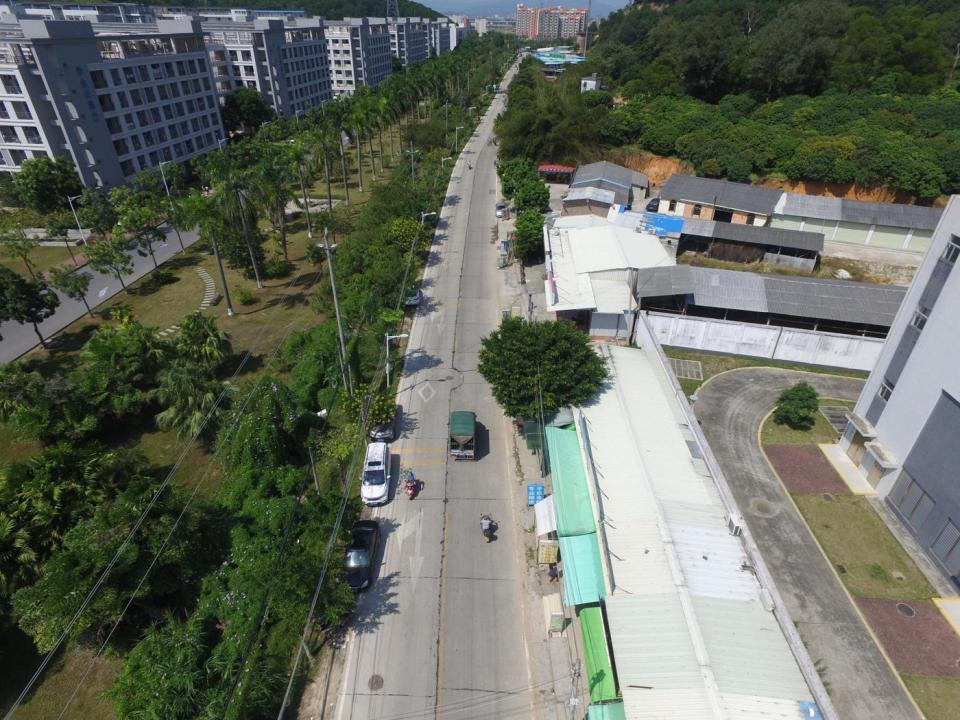car: (345, 523, 380, 592), (367, 404, 398, 439), (402, 286, 422, 307), (424, 211, 439, 229), (646, 197, 662, 213), (496, 201, 507, 216), (494, 88, 498, 92)
van: (360, 441, 392, 506)
